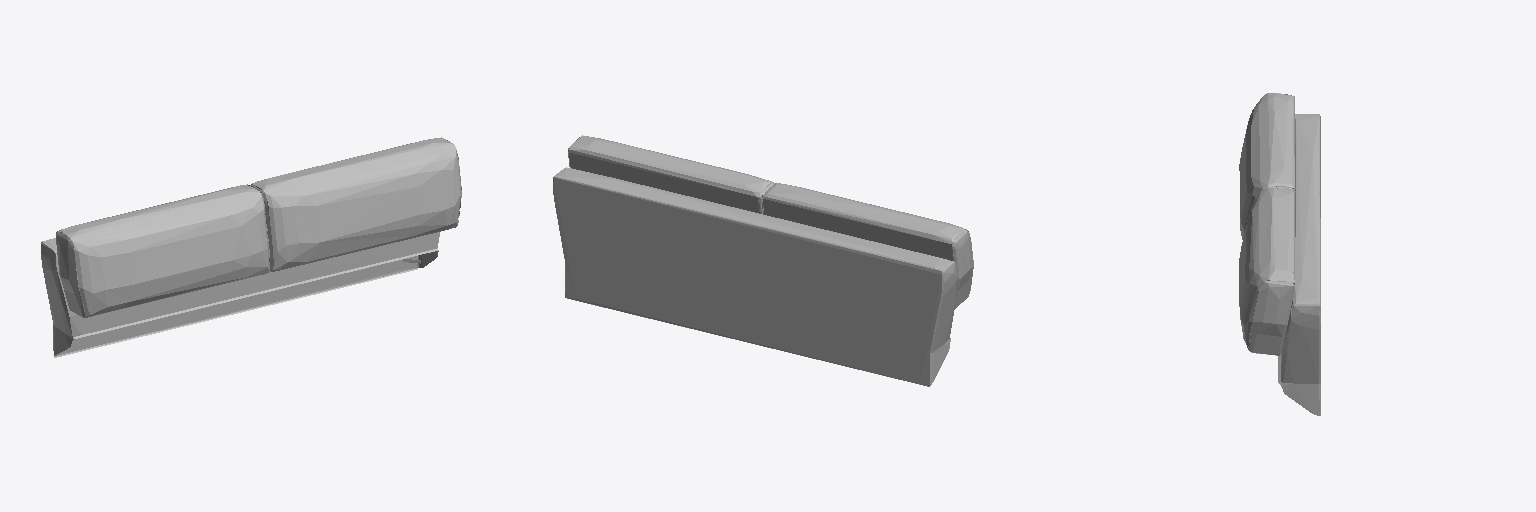
The model's file is poshti.obj.
The picture shows the model from 3 angles: view 1: azimuth 30°, elevation 25°; view 2: azimuth 150°, elevation 25°; view 3: azimuth 270°, elevation 25°; orthographic projection.
Visible parts, largest first — view 1: poshti, back; view 2: back, poshti; view 3: poshti, back.
Boxes of the visible parts, box(x1,y1,x2,y2) form: poshti: box(56, 137, 461, 317); back: box(41, 232, 439, 357); back: box(553, 167, 957, 386); poshti: box(568, 135, 973, 309); poshti: box(1239, 93, 1294, 355); back: box(1278, 114, 1320, 415).
Size of the model in its own units: 10.86 by 3.83 by 1.96.